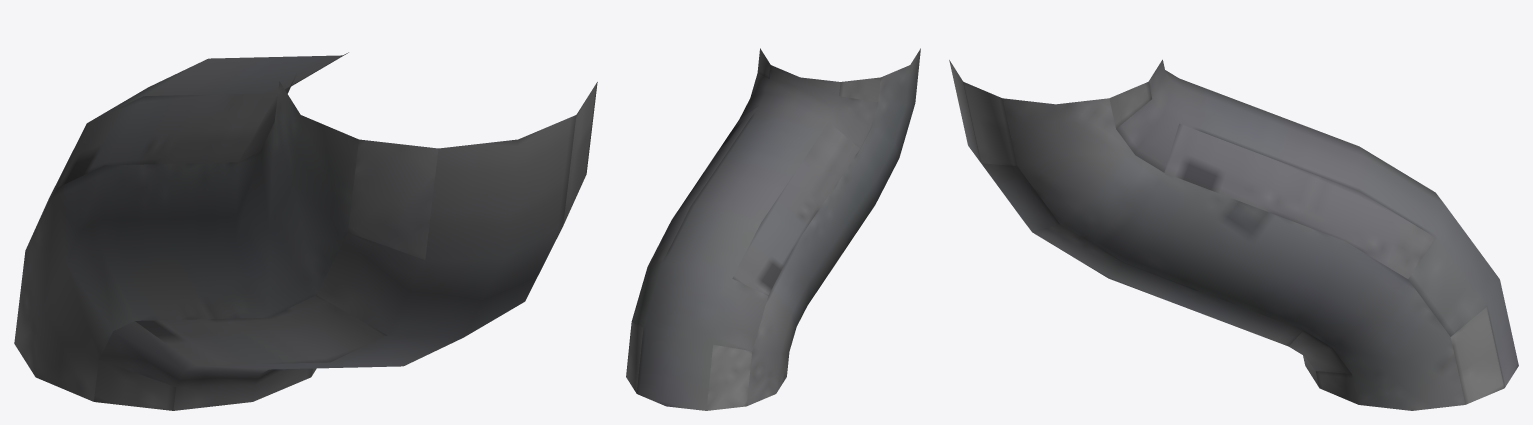
3 views of the same model, side by side, from view 1: azimuth 30°, elevation 25°; view 2: azimuth 150°, elevation 25°; view 3: azimuth 270°, elevation 25° (orthographic). The views are drawn at different scales.
Visible parts, largest first — view 1: body0_model0_lod0_mesh0; view 2: body0_model0_lod0_mesh0; view 3: body0_model0_lod0_mesh0.
Part boxes in pixels (<box>): body0_model0_lod0_mesh0: <box>14,52,597,410</box>; body0_model0_lod0_mesh0: <box>626,48,920,410</box>; body0_model0_lod0_mesh0: <box>949,59,1518,410</box>.
Bounding box in the file's own units: 12 × 19 × 32.
Materials: 1 (1 with a texture image).
